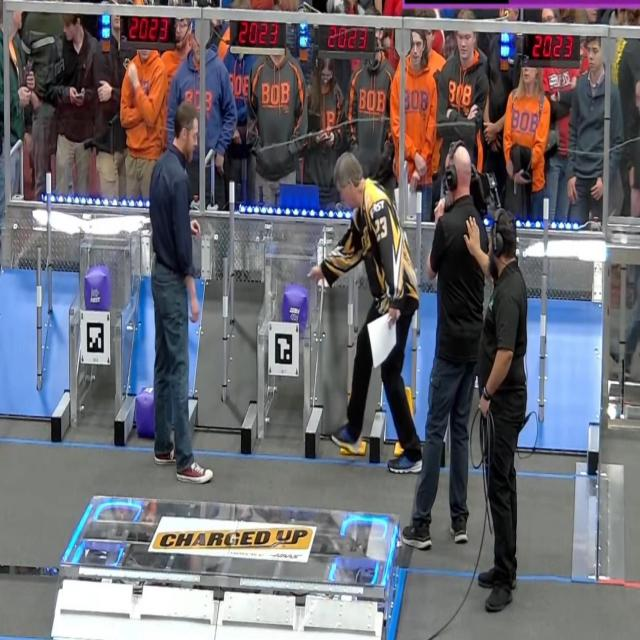frc_cone: (405, 387, 416, 417)
frc_cube: (135, 387, 157, 440), (85, 267, 111, 310), (283, 287, 310, 328)
